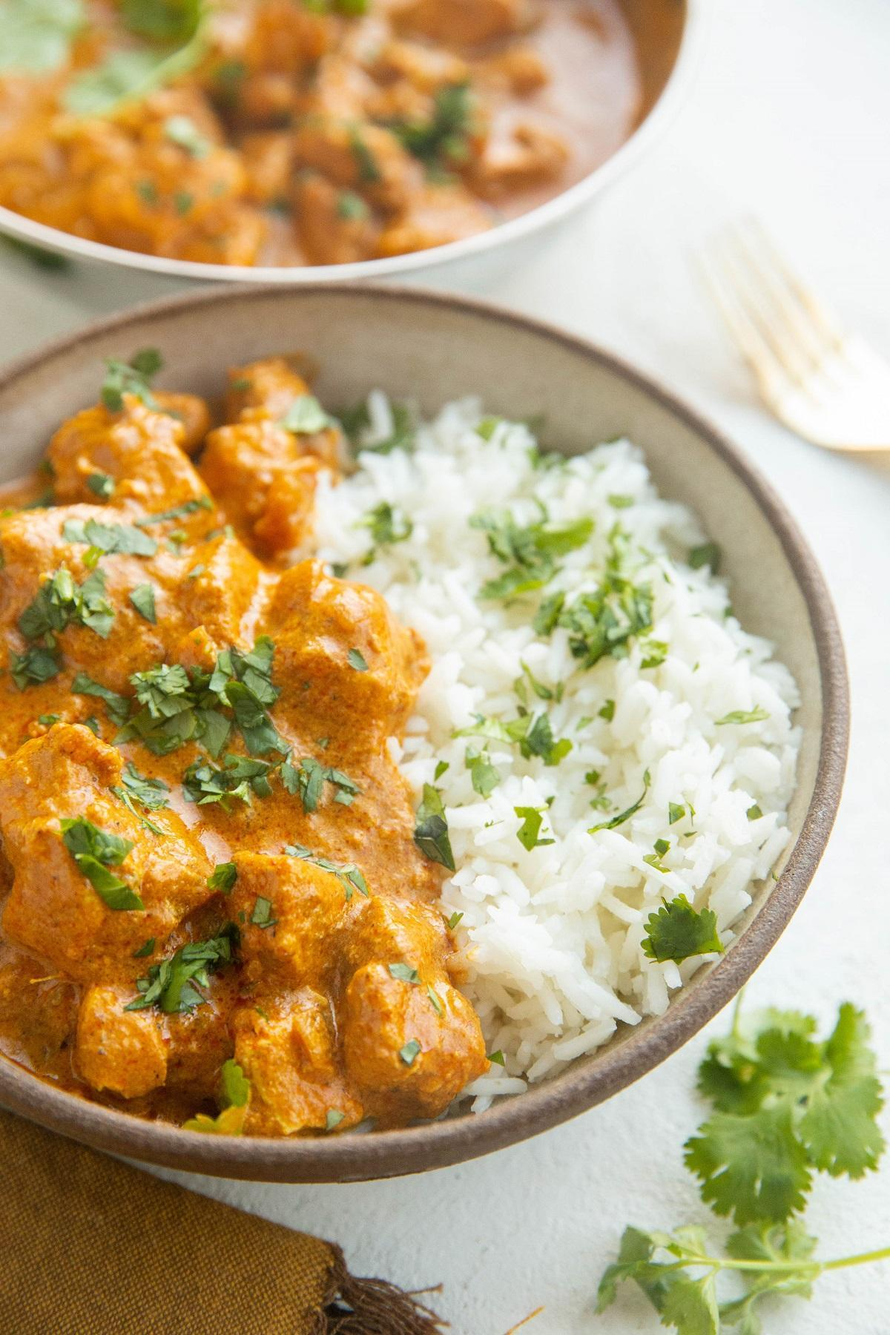chicken: (11, 395, 467, 1134), (19, 6, 590, 214)
rice: (382, 402, 779, 1015)
